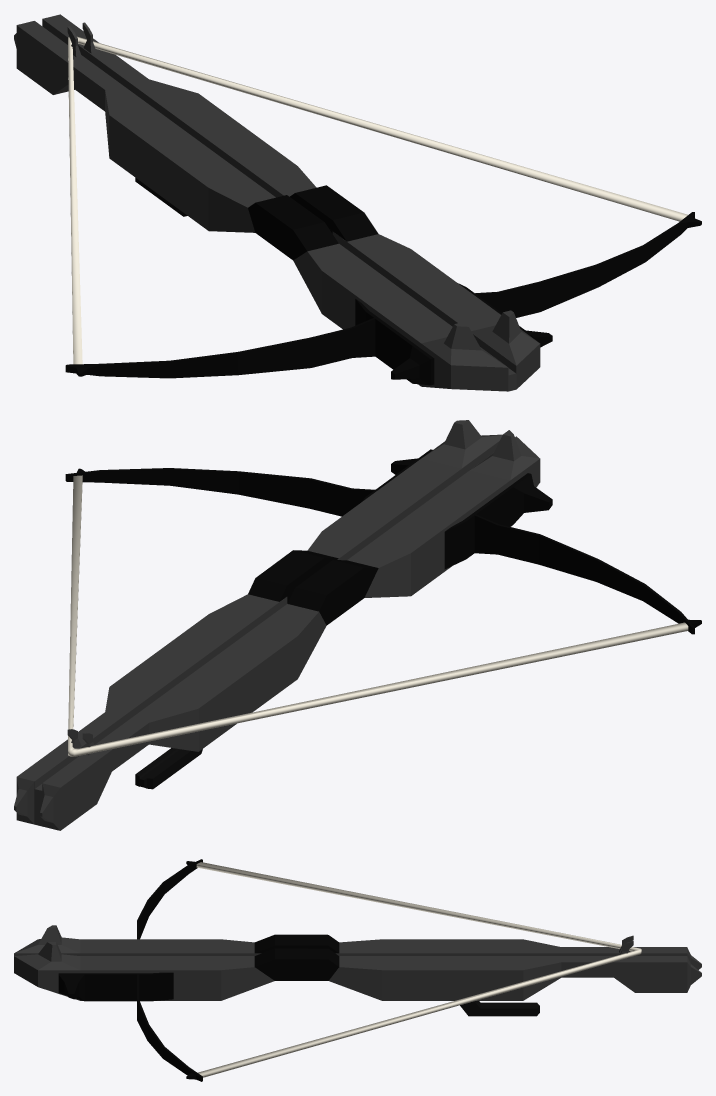
File: XBow_01.fbx
3 views of the same model, one above another, from view 1: azimuth 30°, elevation 25°; view 2: azimuth 150°, elevation 25°; view 3: azimuth 270°, elevation 25° (orthographic). The views are drawn at different scales.
Parts seen in each view (by area): view 1: XBow_01; view 2: XBow_01; view 3: XBow_01.
Part boxes in pixels (x1,y1,x2,y2): XBow_01: (14,14,701,391); XBow_01: (14,420,701,830); XBow_01: (14,859,701,1081).
Size of the model in its own units: 93.25 by 15.54 by 124.
